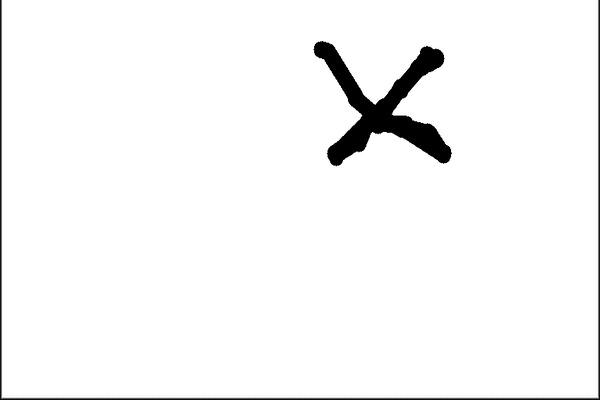X: (295, 27, 481, 176)
